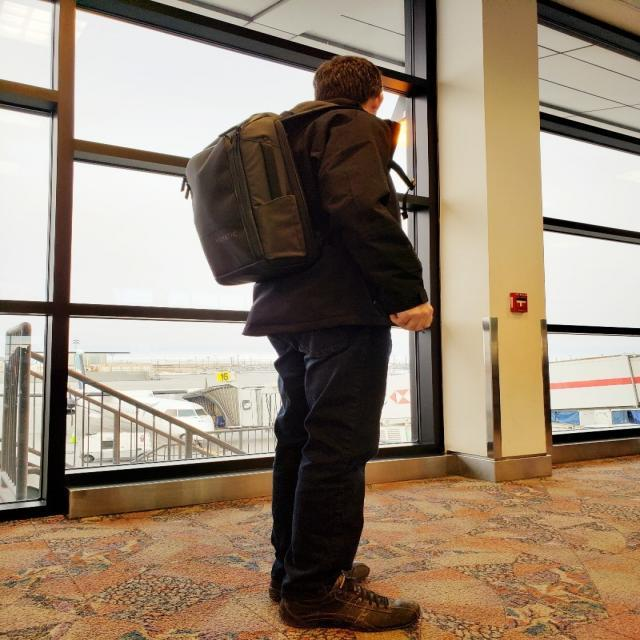Backpacks: (167, 104, 348, 288)
